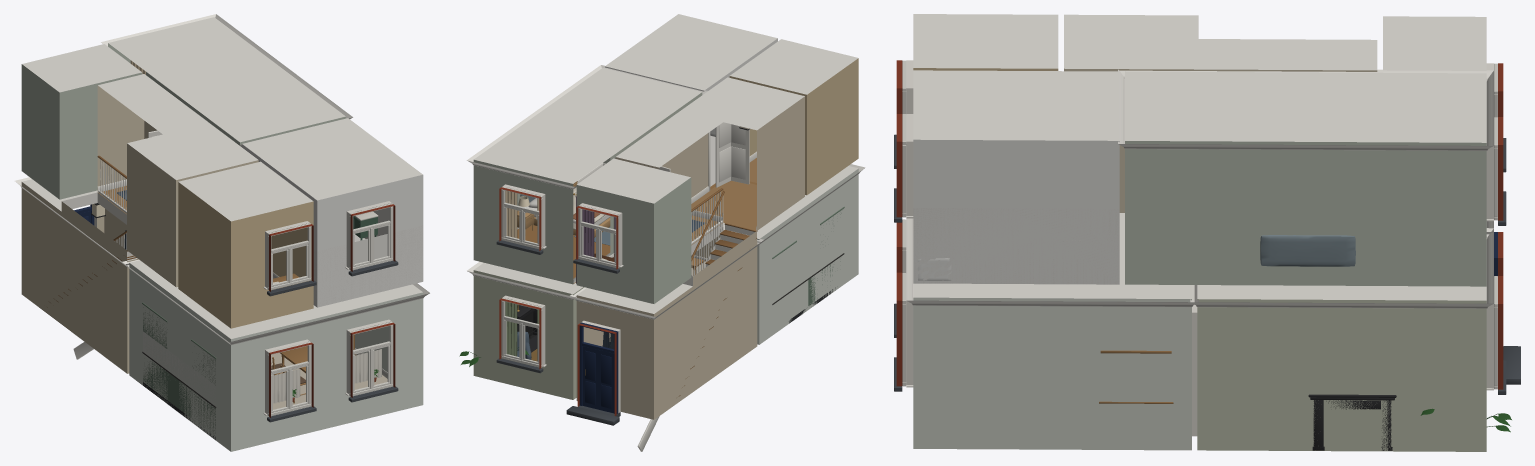
The model's file is interior.glb.
3 renders of one model, left to right at view 1: azimuth 30°, elevation 25°; view 2: azimuth 150°, elevation 25°; view 3: azimuth 270°, elevation 25°, orthographic. The views are drawn at different scales.
Visible parts, largest first — view 1: Interior; view 2: Interior, FrontDoor; view 3: Interior.
Part boxes in pixels (left/top/right/bottom): Interior: left=15, top=14, right=429, bottom=451; Interior: left=459, top=14, right=865, bottom=451; FrontDoor: left=582, top=346, right=614, bottom=413; Interior: left=894, top=14, right=1520, bottom=451.
Size of what is drawn, in the model's own units: 5.81 by 7.67 by 11.27.
